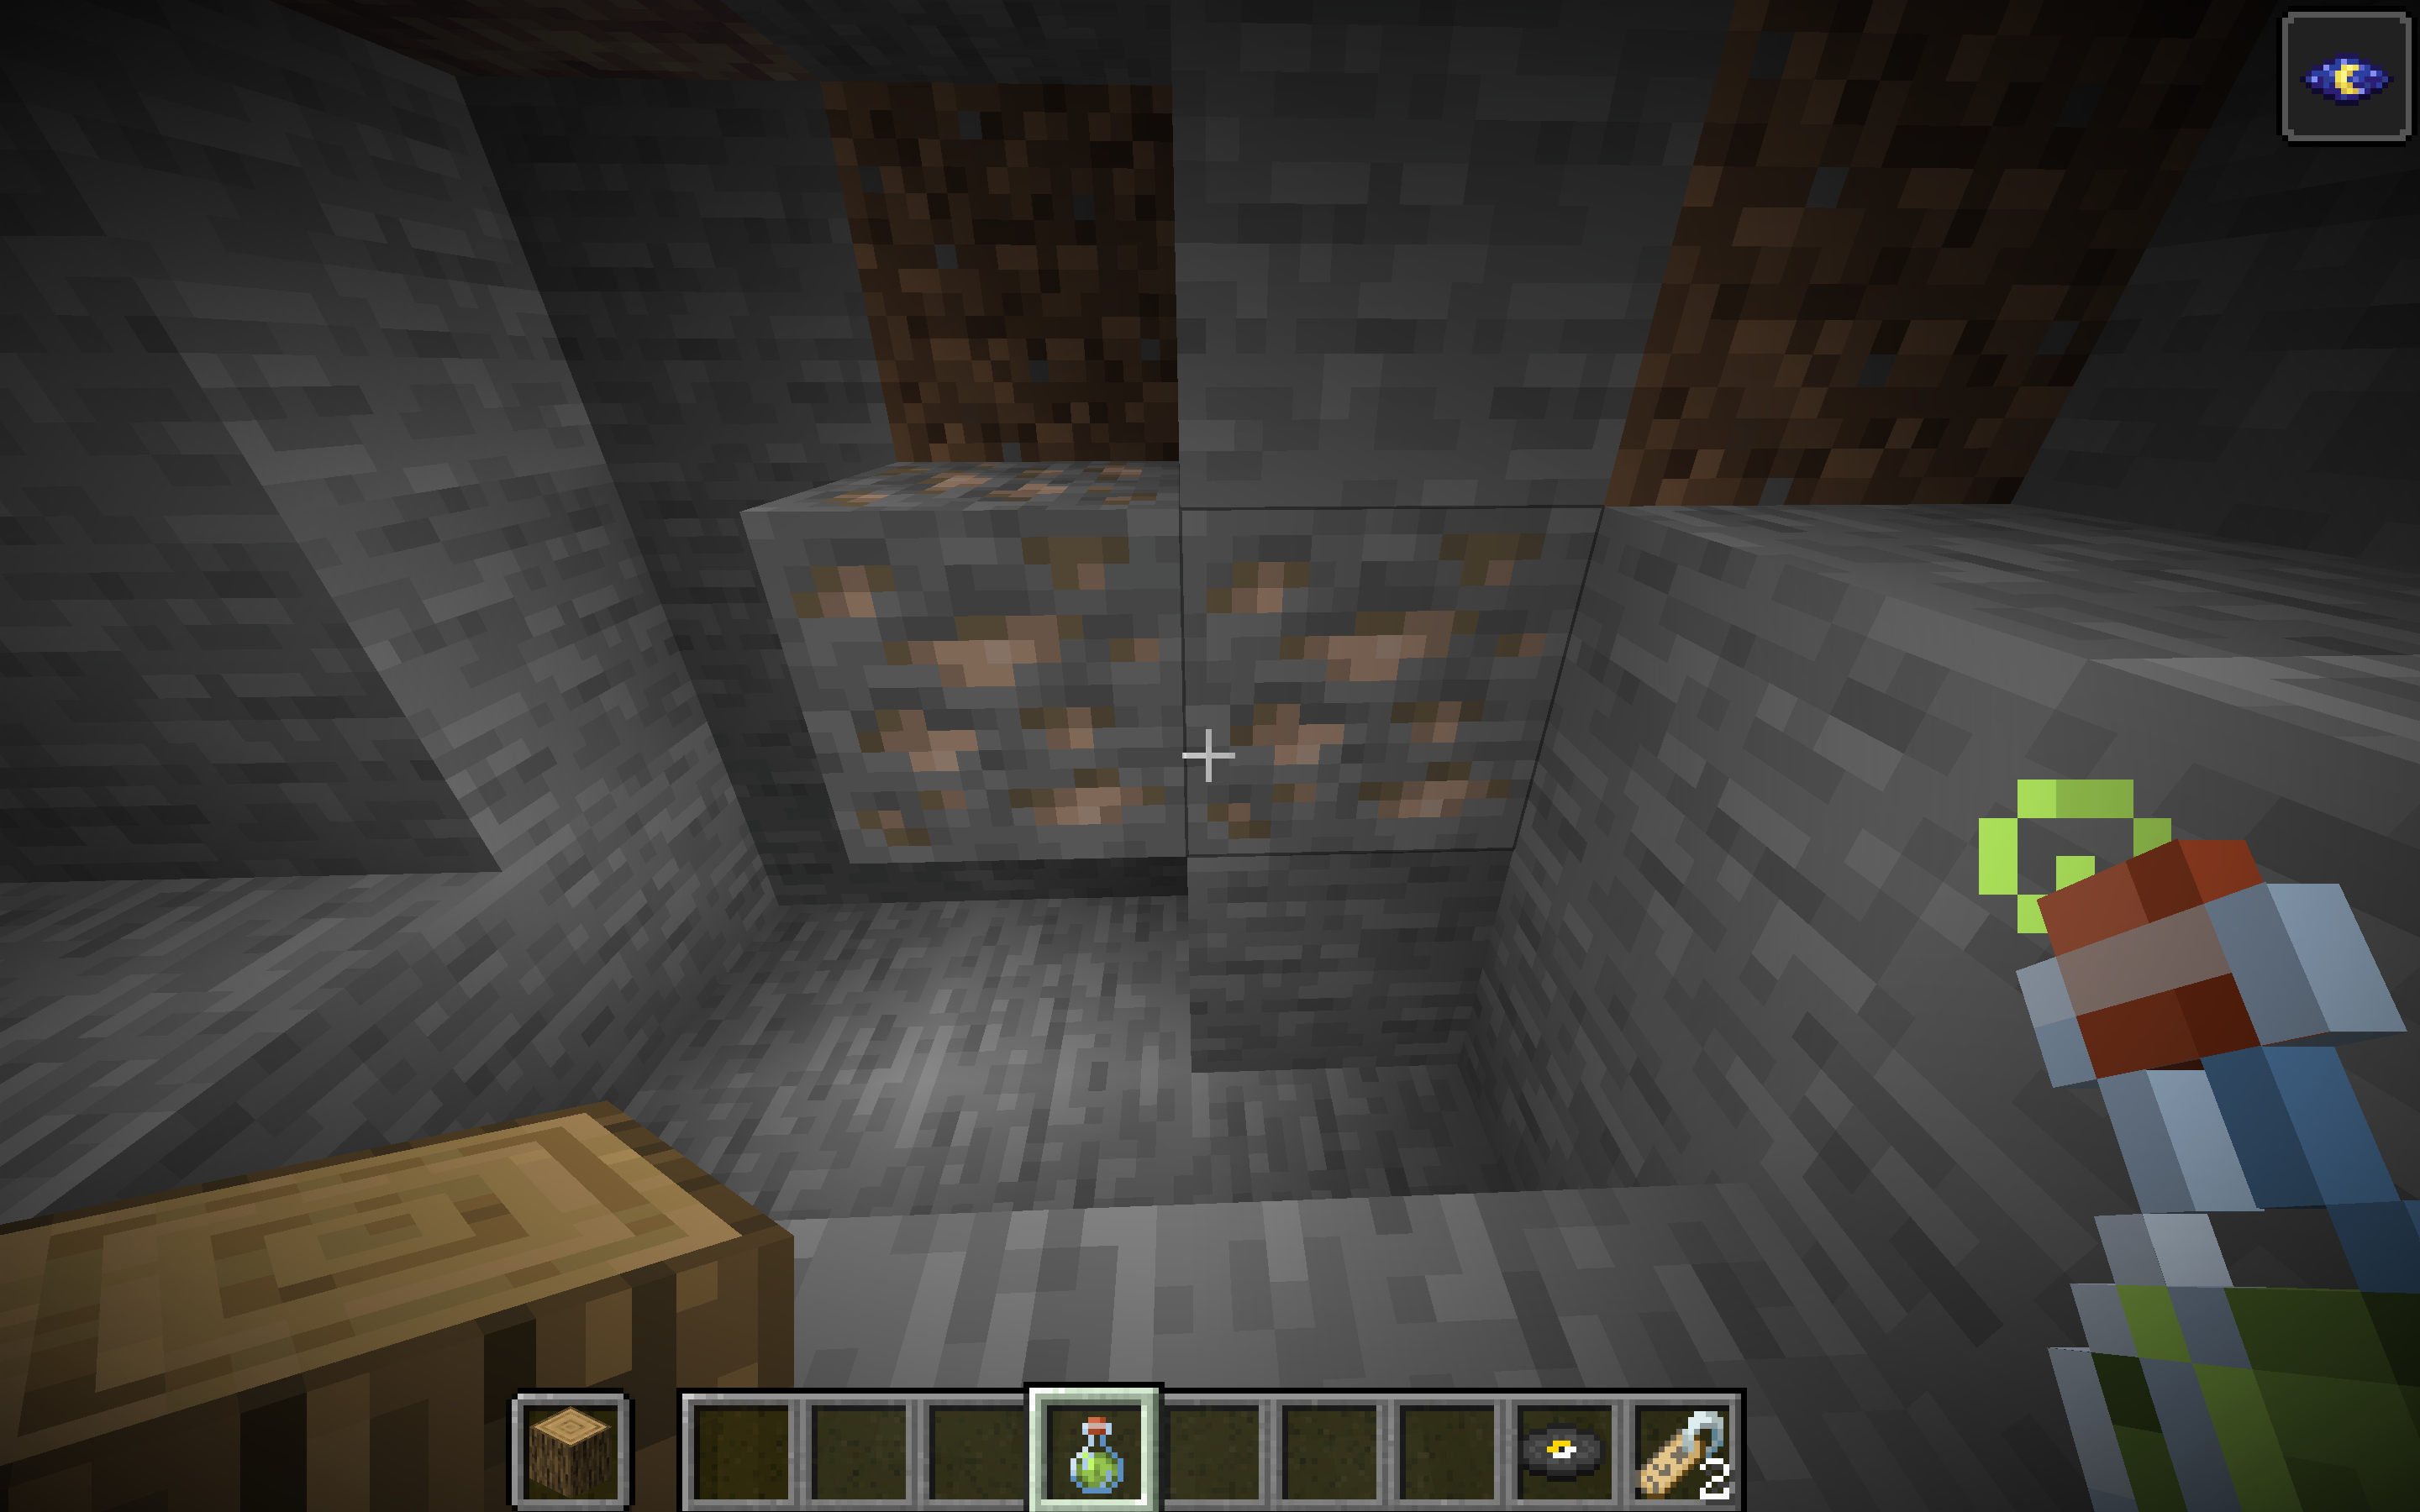iron: (495, 336, 1789, 963)
